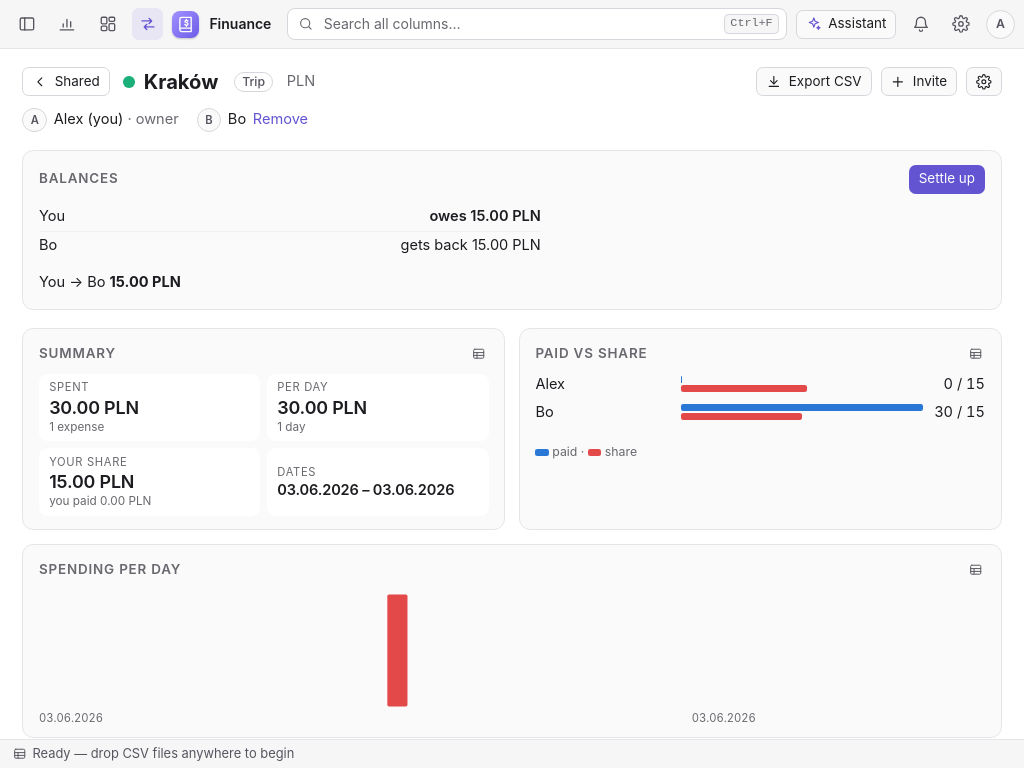
Test: the Shared tab › every card has a table twin
Click the button named "Show Paid vs share as a table" at (974, 354), box [962,342,985,365]
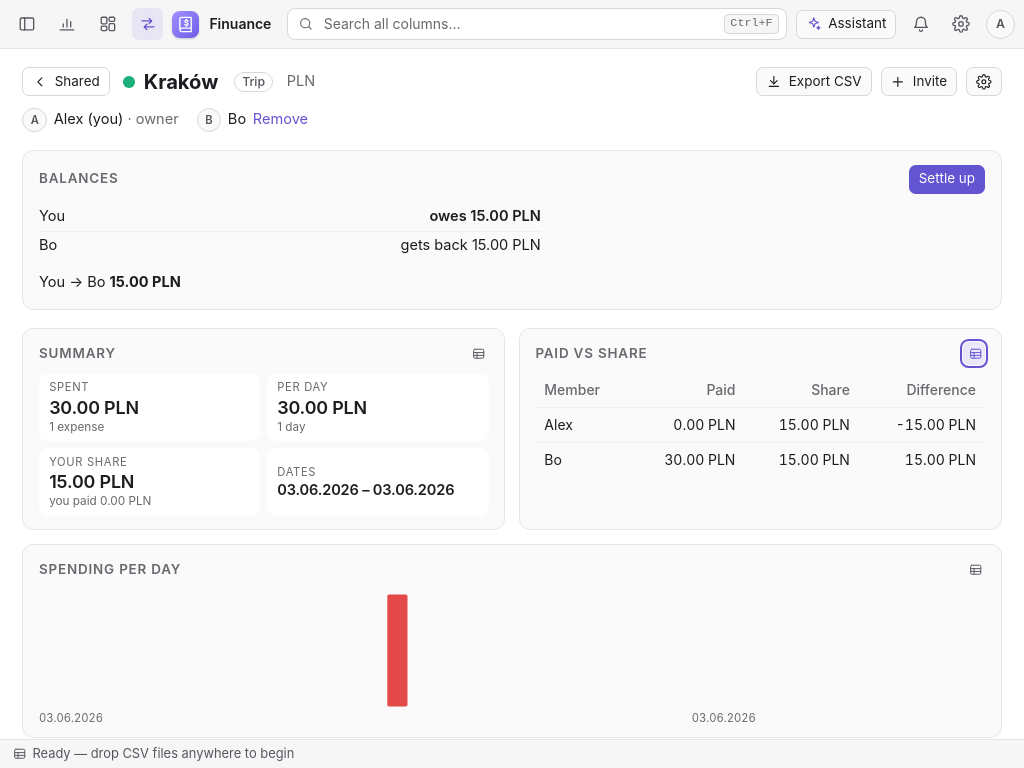
expect the row "Bo 30.00 PLN 15.00 PLN 15.00 PLN" is shown: met, box [535,443,985,477]
